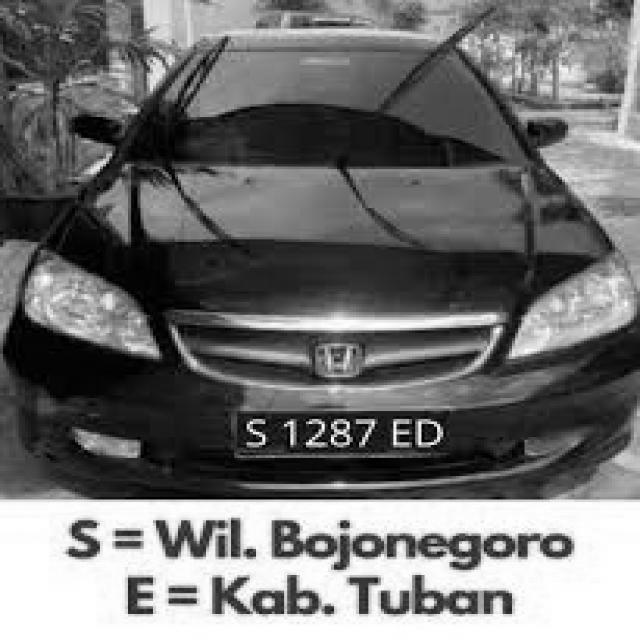1: (282, 418, 300, 456)
2: (304, 414, 328, 456)
7: (354, 411, 378, 449)
8: (329, 418, 354, 452)
D: (415, 418, 443, 448)
E: (391, 417, 414, 452)
S: (244, 414, 268, 451)
